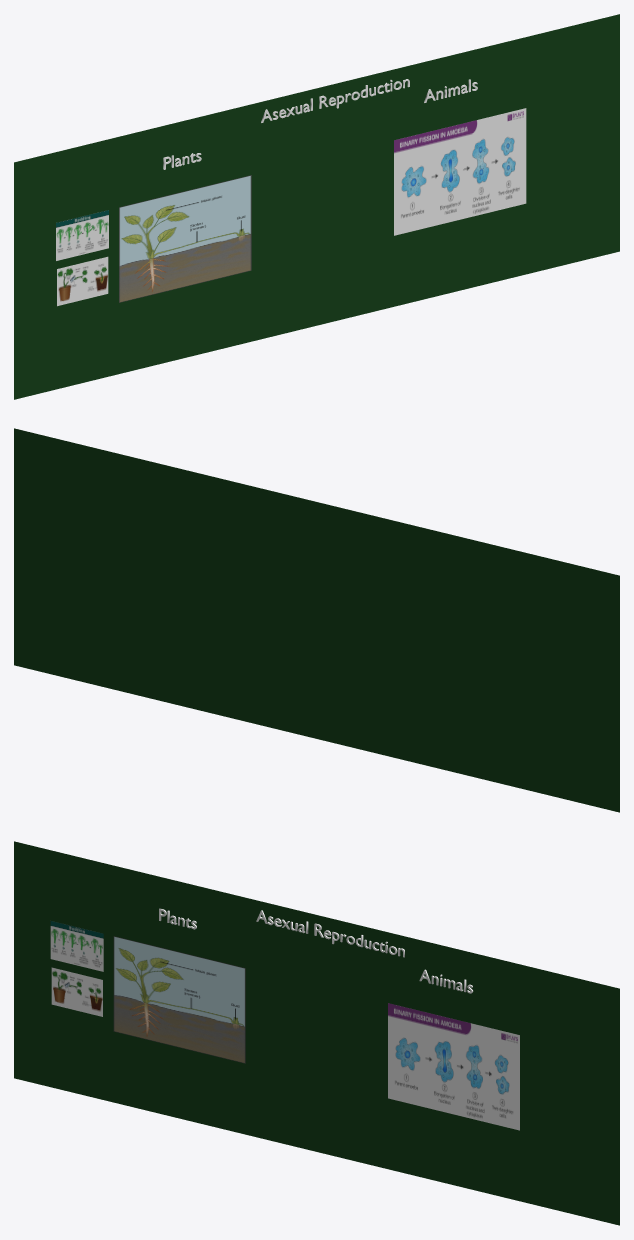
Rendered from fission.gltf.
3 views of the same model, one above another, from view 1: azimuth 30°, elevation 25°; view 2: azimuth 150°, elevation 25°; view 3: azimuth 330°, elevation 25° (orthographic).
Visible parts, largest first — view 1: Plane.013, Plane, Plane.003, Plane.001, Plane.002, Text.001; view 2: Plane.013; view 3: Plane.013, Plane, Plane.003, Plane.001, Plane.002, Text.001.
Boxes of the visible parts, bbox=[...] form: Plane.013: bbox=[14, 14, 619, 399]; Plane: bbox=[119, 175, 251, 302]; Plane.003: bbox=[394, 108, 526, 235]; Plane.001: bbox=[56, 210, 108, 260]; Plane.002: bbox=[57, 256, 108, 306]; Text.001: bbox=[261, 79, 409, 122]; Plane.013: bbox=[14, 428, 619, 812]; Plane.013: bbox=[14, 841, 619, 1225]; Plane: bbox=[113, 936, 245, 1063]; Plane.003: bbox=[388, 1003, 519, 1130]; Plane.001: bbox=[50, 921, 103, 971]; Plane.002: bbox=[51, 967, 102, 1016]; Text.001: bbox=[256, 910, 404, 957].
Bounding box in the file's own units: 15.94 × 5.96 × 0.1459.
Materials: 8 (4 with a texture image).
